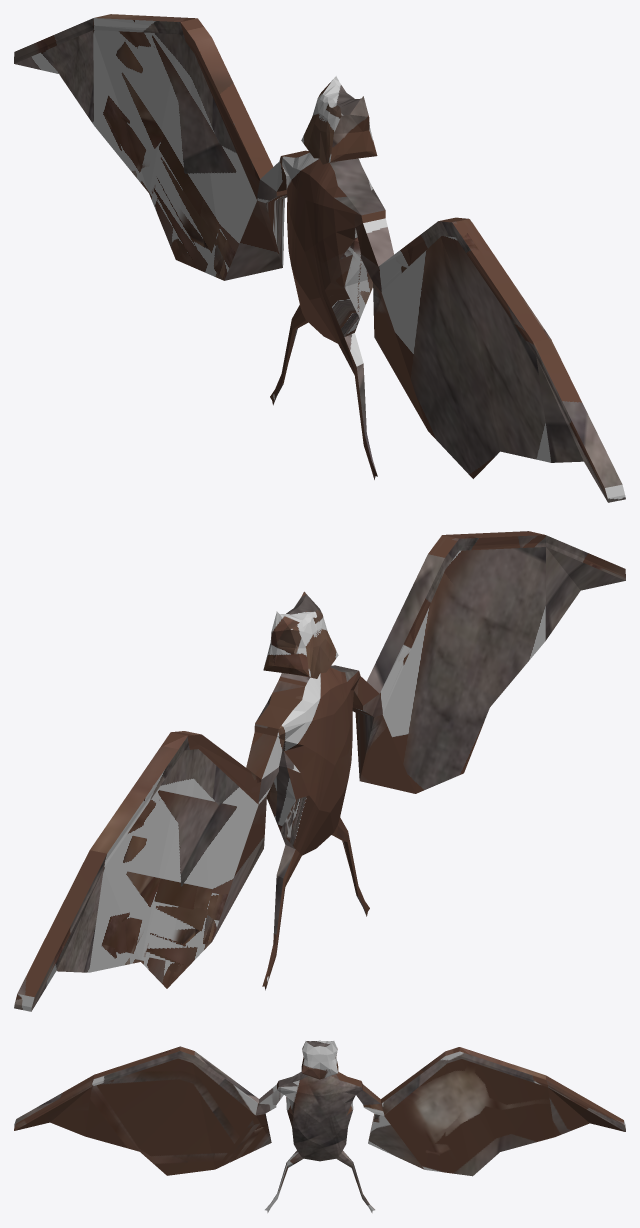
The model's file is Enemigo11.obj.
The picture shows the model from 3 angles, top to bottom: view 1: azimuth 30°, elevation 25°; view 2: azimuth 150°, elevation 25°; view 3: azimuth 270°, elevation 25°; orthographic projection. The views are drawn at different scales.
Parts seen in each view (by area): view 1: Plano; view 2: Plano; view 3: Plano.
Boxes of the visible parts, x1=… form: Plano: x1=14, y1=14, x2=625, y2=502; Plano: x1=14, y1=531, x2=625, y2=1011; Plano: x1=14, y1=1040, x2=625, y2=1212.
Size of the model in its own units: 0.1306 by 0.7574 by 2.34.
Materials: 1 (1 with a texture image).
